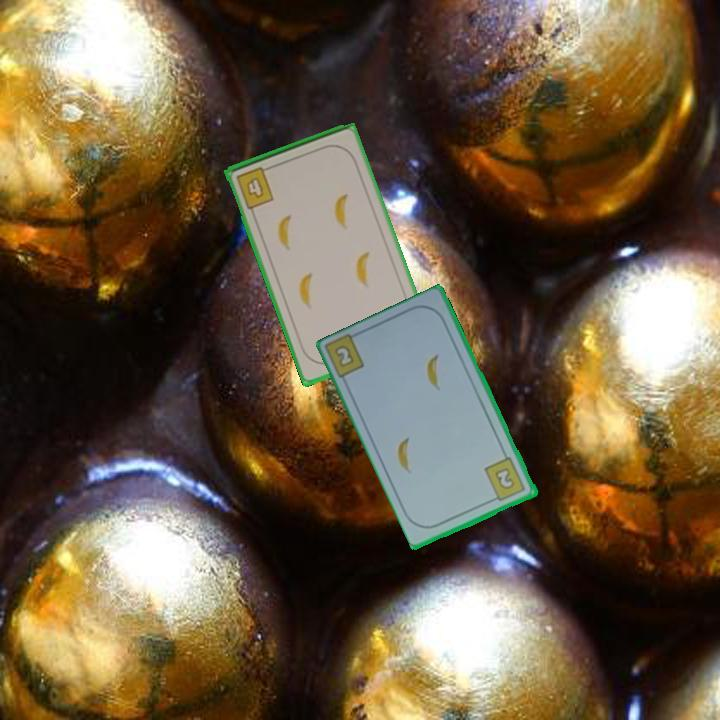2b: (323, 329, 368, 383), (481, 454, 528, 504)
4b: (233, 163, 277, 212)
